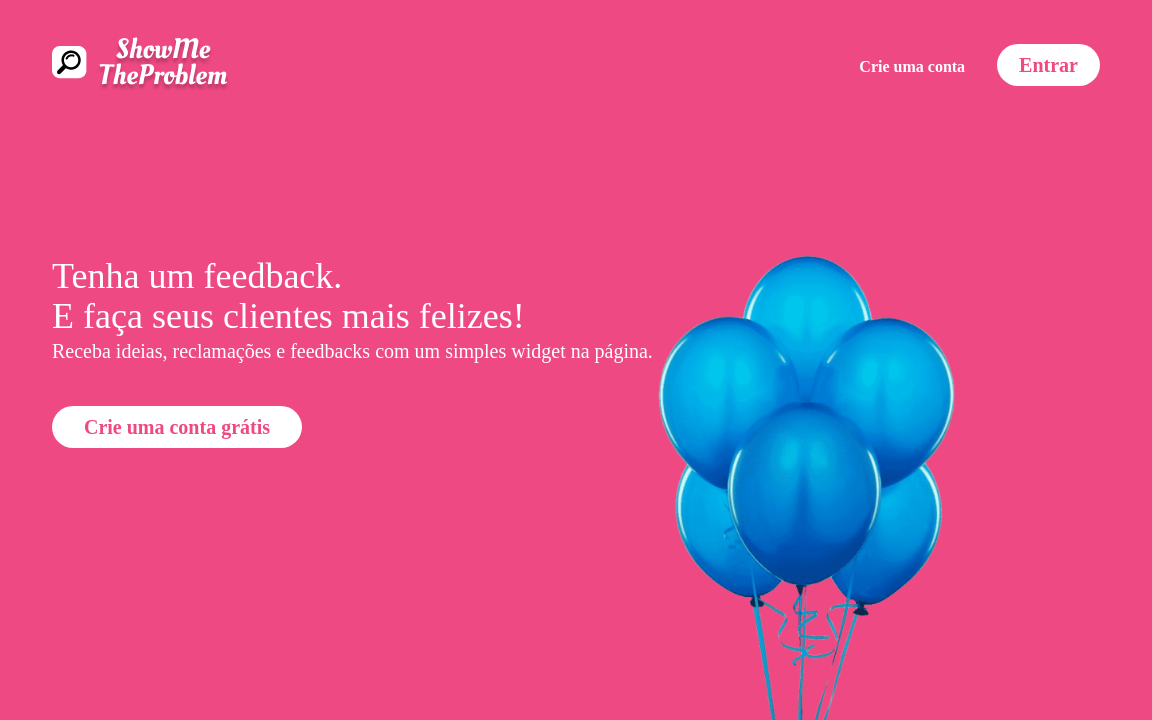
it: Home › 🧪 E2E: › Dado o botão "Entrar" do header Quando clicado Então deve abrir o modal
Click the button with id "button-login": x=1049, y=65 [997,44,1100,86]
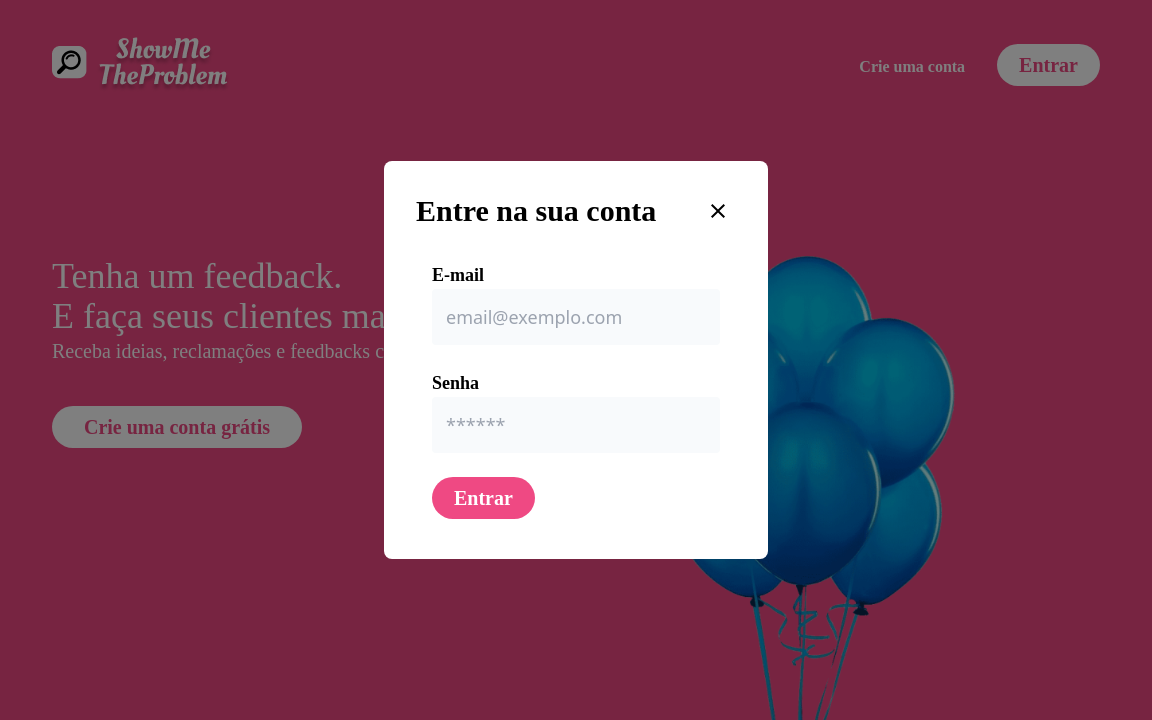
Result: the form with id "modal-login-account" is shown at [432,261,720,519]
